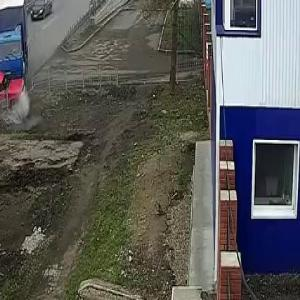serious: (0, 0, 31, 118)
